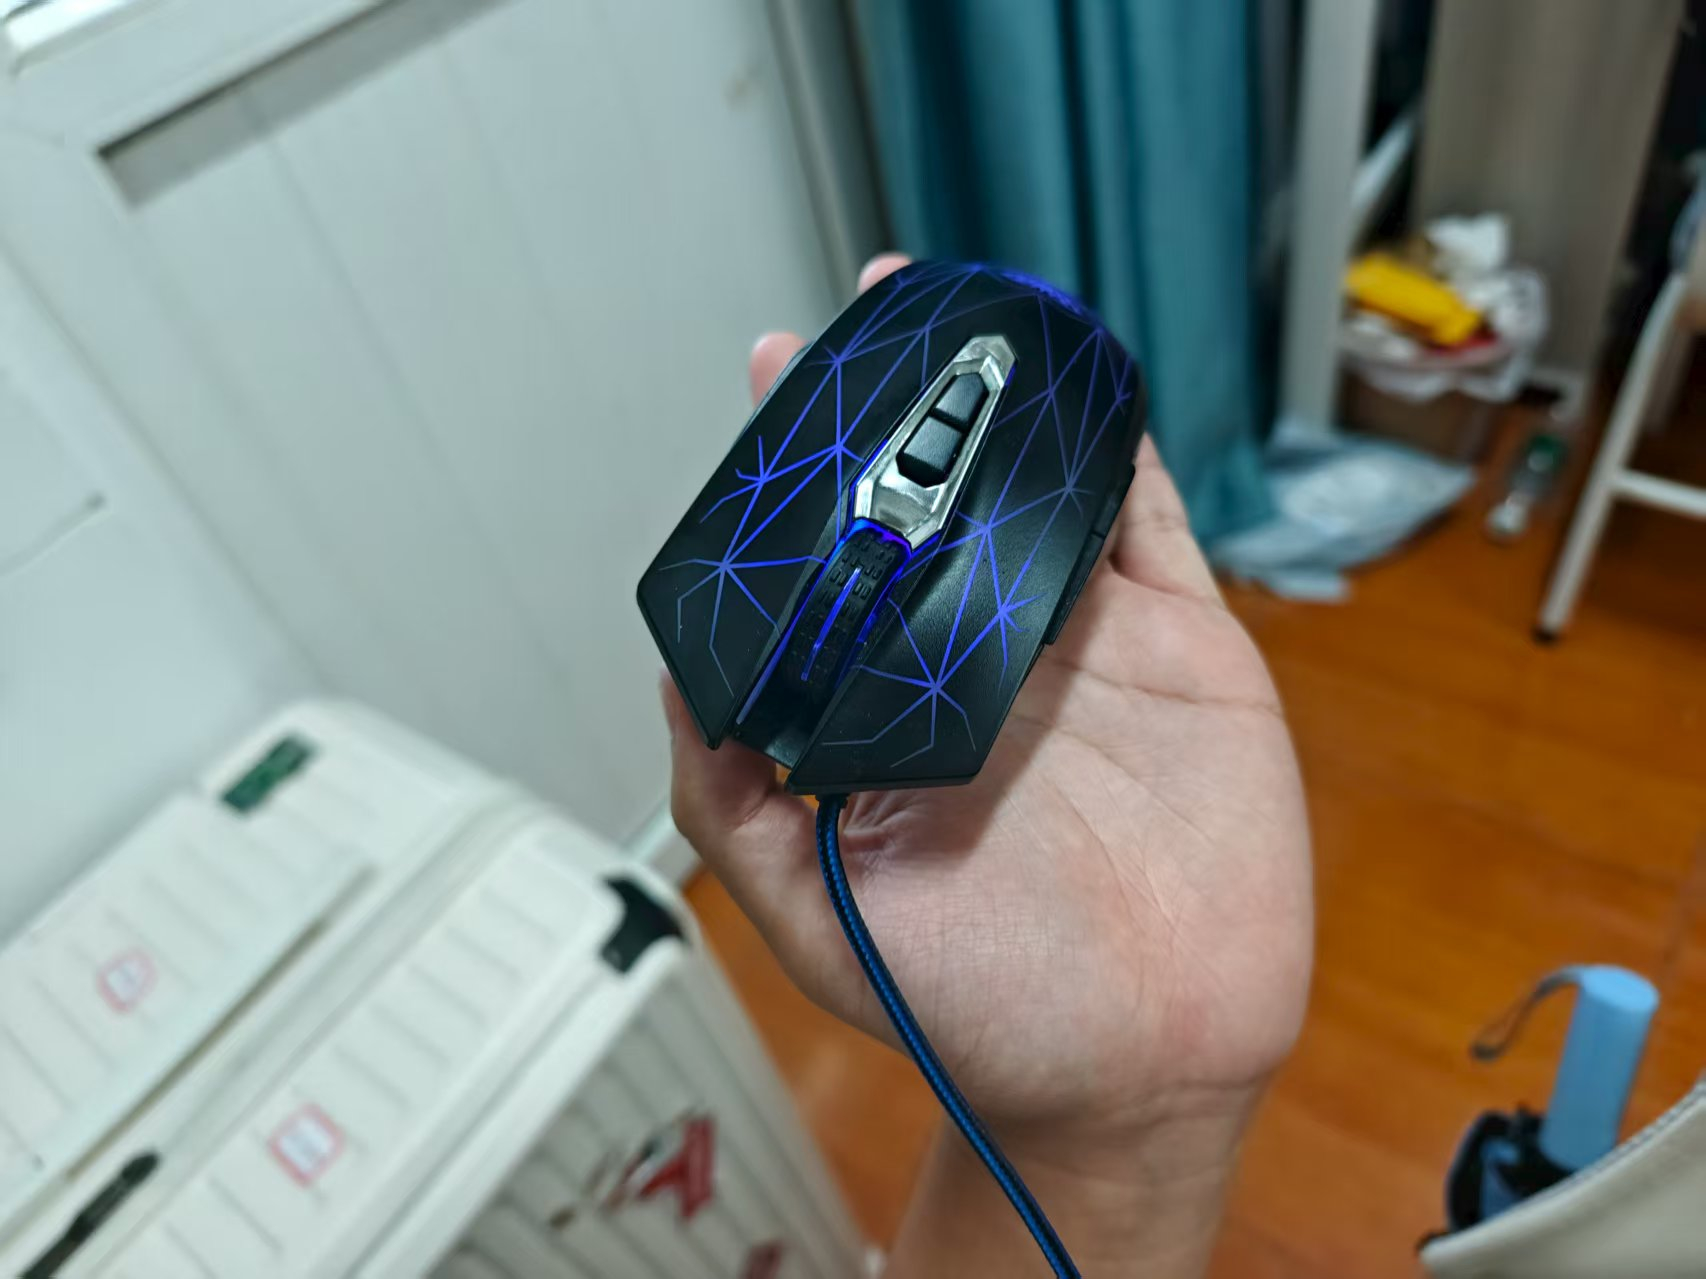mouse: (633, 236, 1149, 864)
